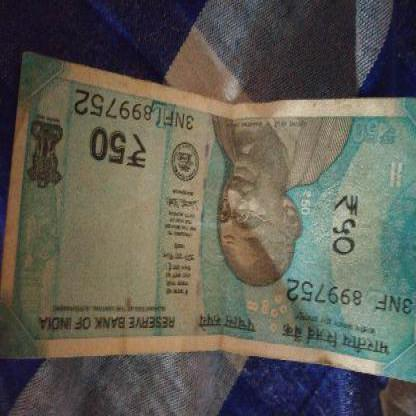New50Front: (1, 96, 415, 351)
